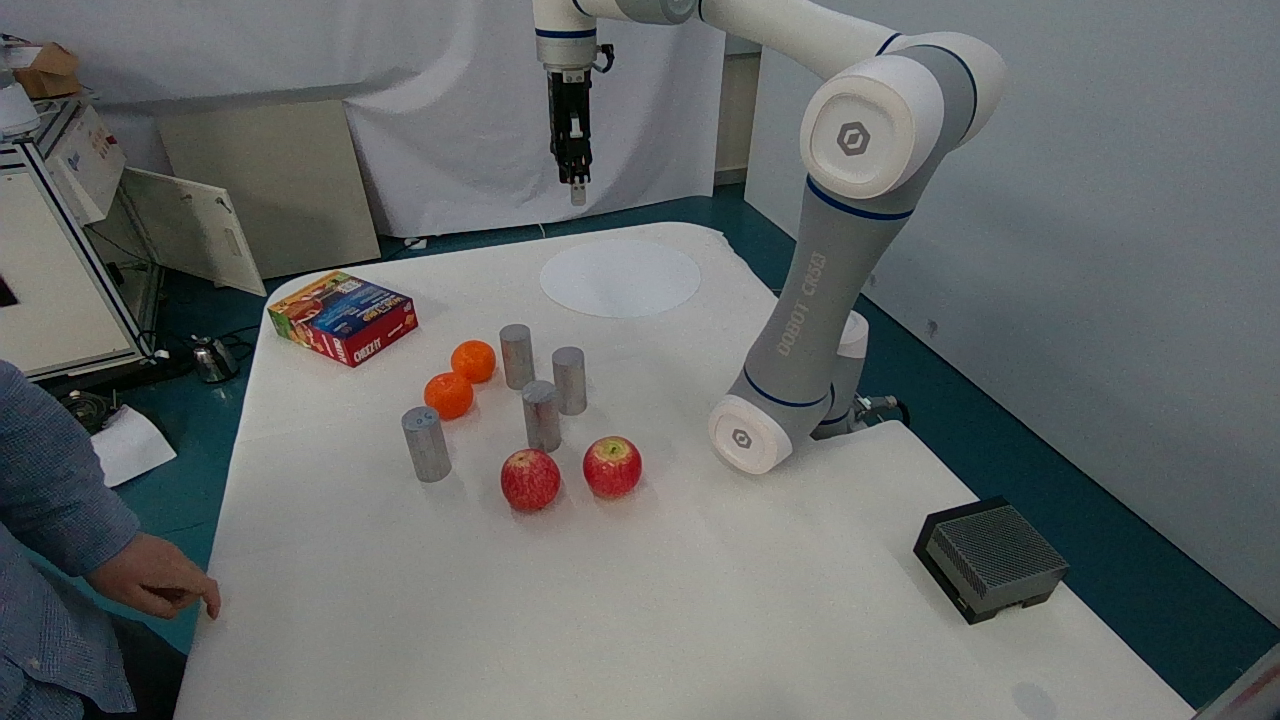apple: (490, 437, 571, 521), (573, 423, 648, 506)
metal rod: (390, 393, 459, 494), (489, 310, 548, 393), (545, 335, 602, 420), (515, 372, 567, 452)
orange: (444, 328, 502, 394), (413, 364, 476, 424)
